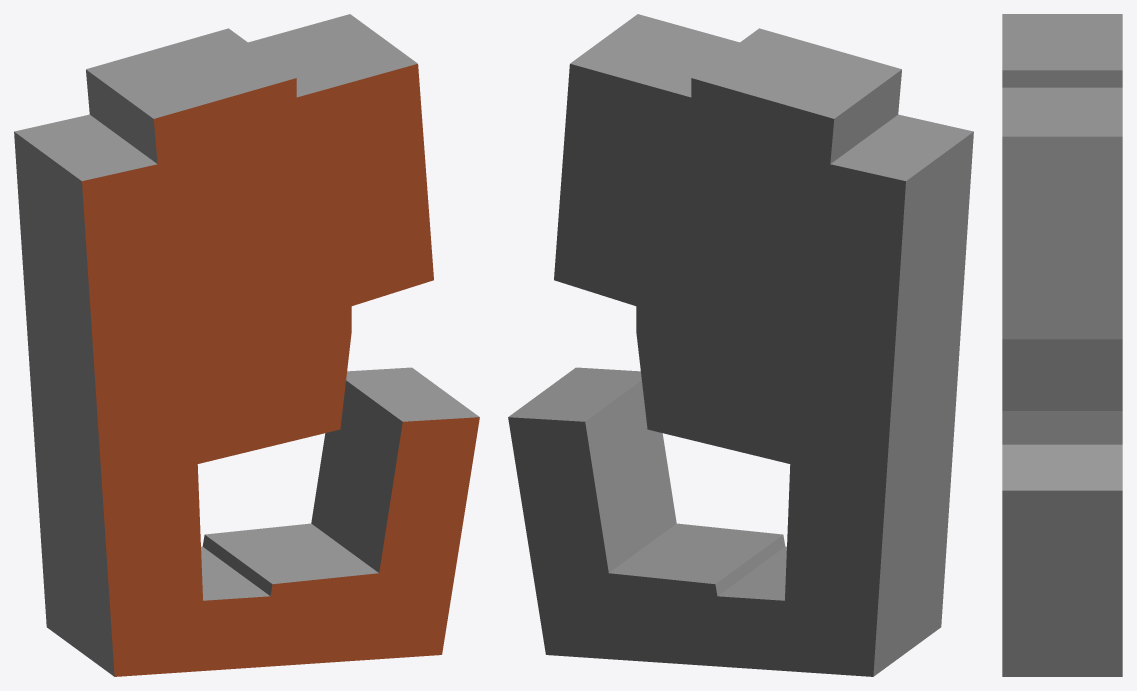
Rendered from construction_6464_assumed_A_Casa_h6m.obj.
The picture shows the model from 3 angles, left to right: view 1: azimuth 30°, elevation 25°; view 2: azimuth 150°, elevation 25°; view 3: azimuth 270°, elevation 25°; orthographic projection. The views are drawn at different scales.
Parts seen in each view (by area): view 1: construction_6464_assumed_A_Casa; view 2: construction_6464_assumed_A_Casa; view 3: construction_6464_assumed_A_Casa.
Boxes of the visible parts, <box> form: construction_6464_assumed_A_Casa: <box>14,14,479,676</box>; construction_6464_assumed_A_Casa: <box>508,14,973,676</box>; construction_6464_assumed_A_Casa: <box>1002,14,1122,676</box>.
Bounding box in the file's own units: 20.3 × 29.85 × 6.
